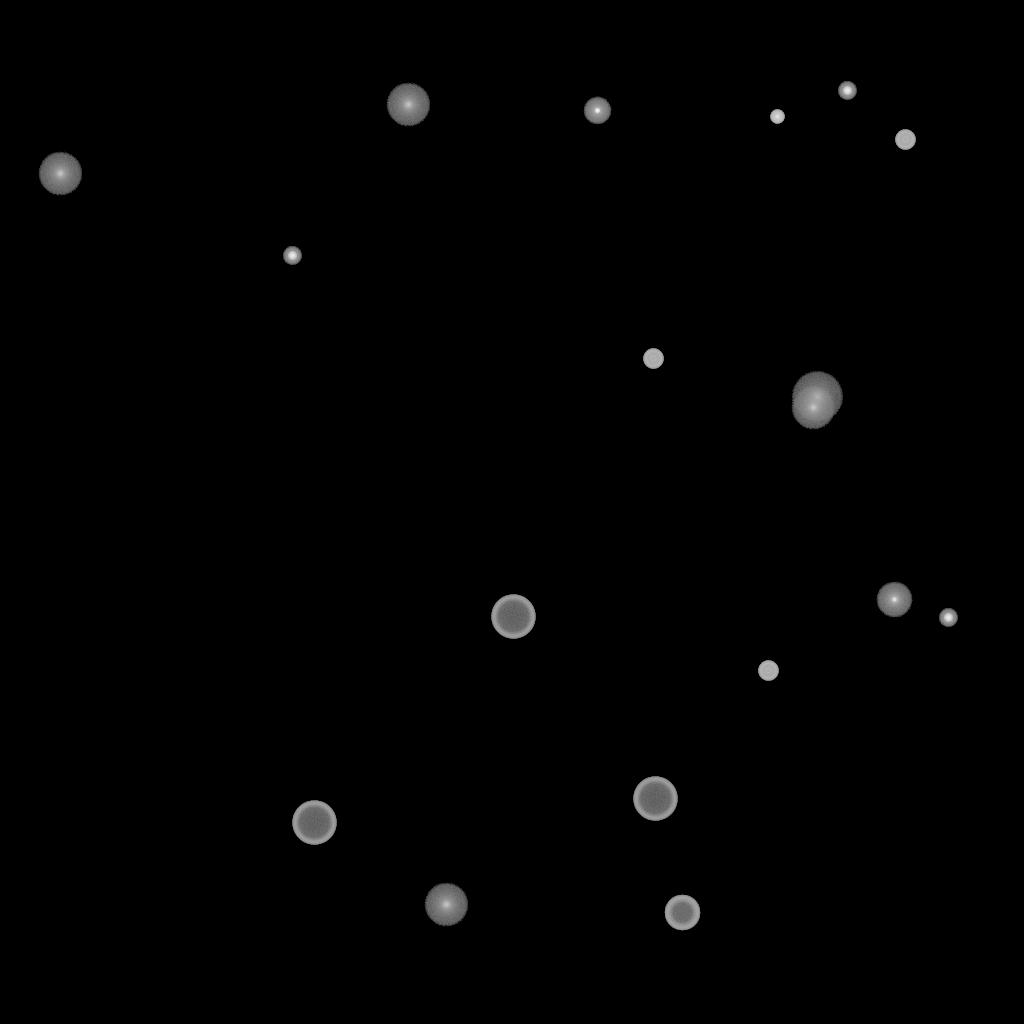depth:-10: (583, 97, 611, 125)
depth:-20: (283, 247, 301, 265), (939, 609, 957, 627), (838, 82, 856, 100)
depth:-30: (770, 110, 784, 124)
depth:-40: (895, 130, 915, 150), (758, 661, 778, 681), (643, 349, 663, 369)
depth:-60: (664, 895, 700, 931)
depth:-70: (633, 777, 677, 821), (292, 801, 336, 845), (491, 595, 535, 639)
depth:0: (876, 582, 912, 618)
depth:10: (791, 386, 835, 430), (38, 152, 82, 196), (424, 883, 468, 927), (386, 83, 430, 127)
depth:20: (791, 372, 843, 422)
